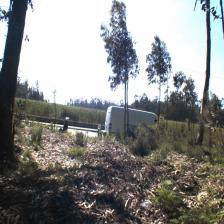trunktrack_idkeyframe: (0, 17, 25, 138), (197, 24, 214, 152)
